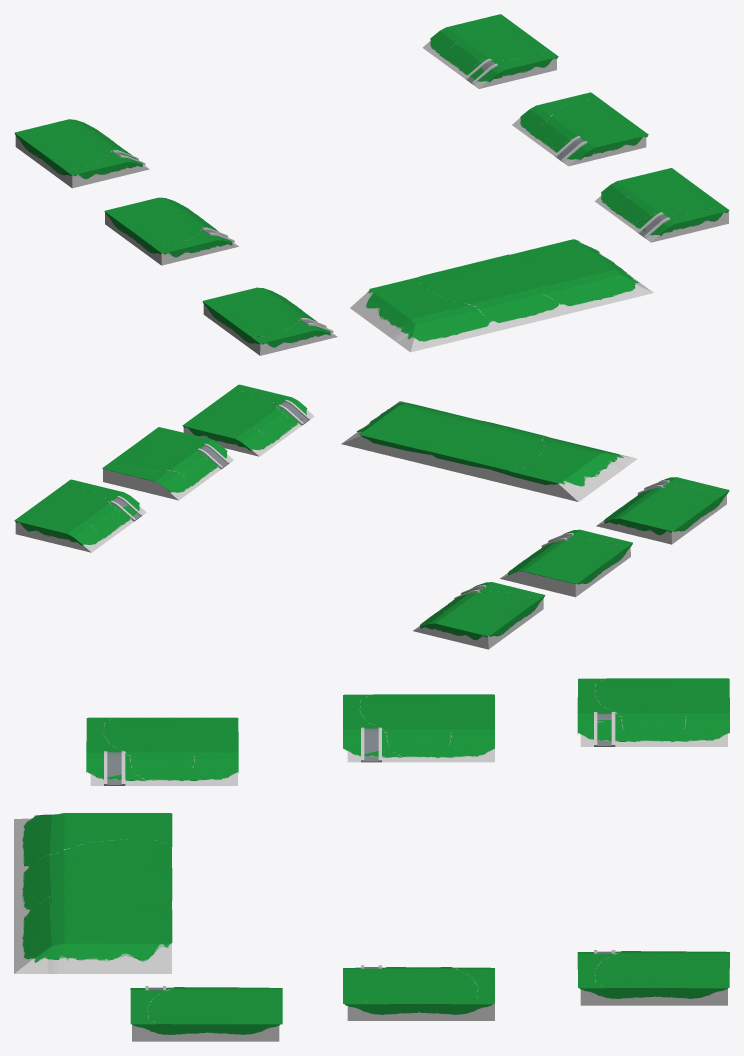
Rendered from Envyronment tanah.fbx.
3 views of the same model, one above another, from view 1: azimuth 30°, elevation 25°; view 2: azimuth 150°, elevation 25°; view 3: azimuth 270°, elevation 25° (orthographic). The views are drawn at different scales.
Parts seen in each view (by area): view 1: Envyronment tanah; view 2: Envyronment tanah; view 3: Envyronment tanah.
Boxes of the visible parts, x1,y1,x2,y2 form: Envyronment tanah: (14,14,729,355); Envyronment tanah: (14,384,729,649); Envyronment tanah: (14,678,729,1041).
Size of the model in its own units: 166 by 16.11 by 162.
